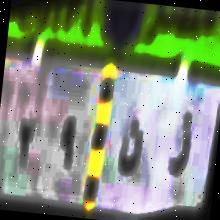2: (14, 116, 38, 171)
9: (56, 108, 82, 178)
noon: (113, 115, 148, 189)
zay: (164, 100, 196, 191)
